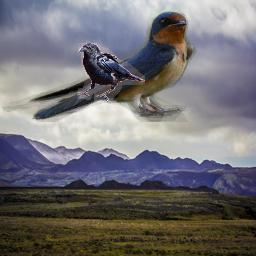Crow: (77, 43, 145, 102)
Swallow: (1, 9, 197, 122)
